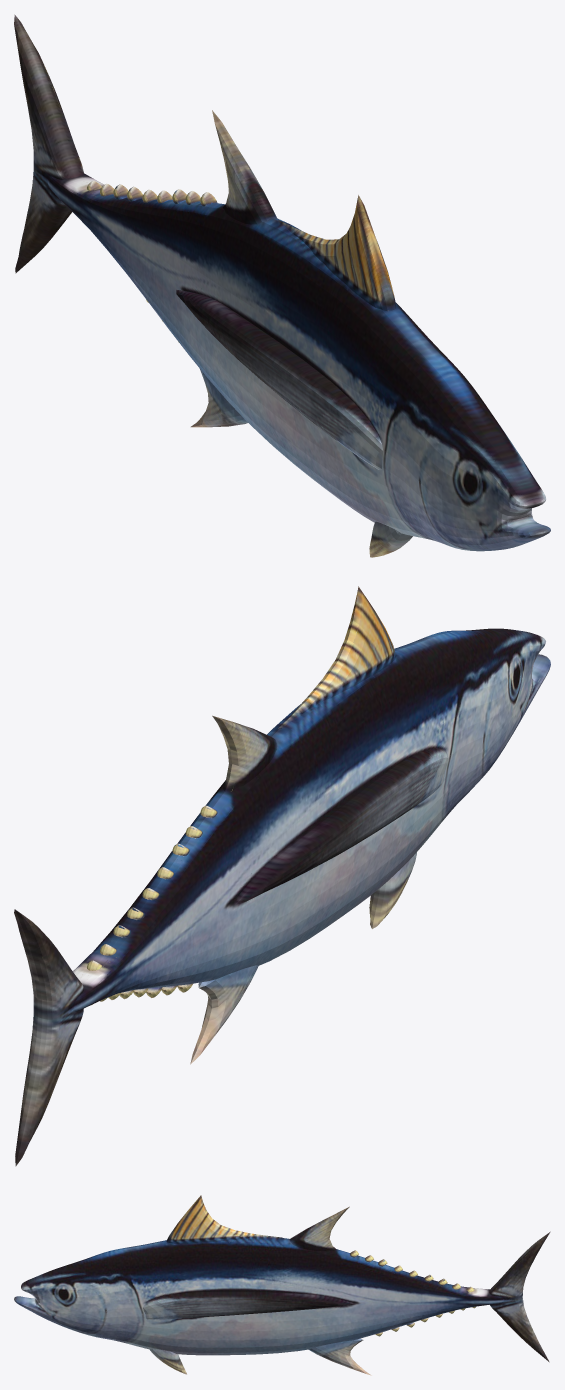
File: Tuna-bl.obj
3 views of the same model, one above another, from view 1: azimuth 30°, elevation 25°; view 2: azimuth 150°, elevation 25°; view 3: azimuth 270°, elevation 25° (orthographic). The views are drawn at different scales.
Parts seen in each view (by area): view 1: Cube.001; view 2: Cube.001; view 3: Cube.001.
Boxes of the visible parts, box(x1,y1,x2,y2) form: Cube.001: box(14, 14, 550, 557); Cube.001: box(14, 586, 550, 1166); Cube.001: box(14, 1195, 550, 1375).
Bounding box in the file's own units: 0.7967 × 2.53 × 6.81.
Materials: 1 (1 with a texture image).
